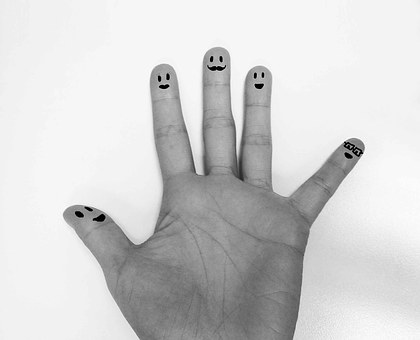palm: (153, 184, 302, 330)
